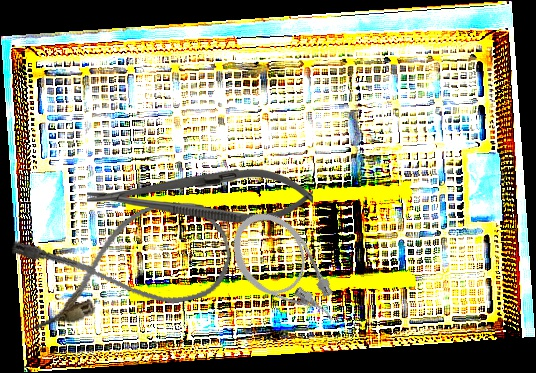Cannula: (9, 192, 239, 335), (216, 197, 353, 348)
Needle Holder: (87, 168, 313, 223)
